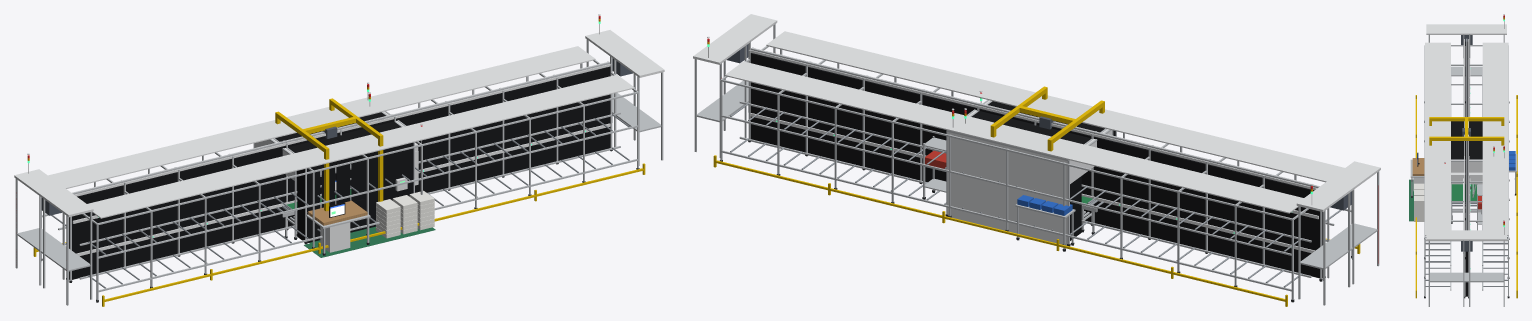
File: lineend-plant.glb
3 renders of one model, left to right at view 1: azimuth 30°, elevation 25°; view 2: azimuth 150°, elevation 25°; view 3: azimuth 270°, elevation 25°, orthographic. The views are drawn at different scales.
Parts seen in each view (by area): view 1: ML.aging.frame, ML.aging.lifts, ML.wb.booth, ML.packer.materials, ML.packer.lift, ML.aging.power, ML.qa.booth, ML.wb.analyser, ML.packer.conveyor; view 2: ML.aging.frame, ML.qa.booth, ML.aging.lifts, ML.wb.booth, ML.packer.lift, ML.aging.power, ML.packer.materials, ML.qa.station; view 3: ML.aging.frame, ML.aging.lifts, ML.packer.materials, ML.wb.booth, ML.packer.lift, ML.qa.booth, ML.fct.conveyor, ML.aging.power, ML.packer.conveyor, ML.qa.station, ML.wb.analyser.
Boxes of the visible parts, <box> form: ML.aging.frame: <box>33,46,645,306</box>; ML.aging.lifts: <box>14,14,664,305</box>; ML.wb.booth: <box>273,82,414,244</box>; ML.packer.materials: <box>307,123,434,238</box>; ML.packer.lift: <box>275,98,383,228</box>; ML.aging.power: <box>72,123,610,255</box>; ML.qa.booth: <box>253,111,435,257</box>; ML.wb.analyser: <box>320,202,350,252</box>; ML.packer.conveyor: <box>276,205,370,255</box>; ML.aging.frame: <box>713,31,1360,306</box>; ML.qa.booth: <box>945,100,1113,246</box>; ML.aging.lifts: <box>693,14,1380,305</box>; ML.wb.booth: <box>951,101,1116,240</box>; ML.packer.lift: <box>990,86,1104,151</box>; ML.aging.power: <box>750,113,1318,253</box>; ML.packer.materials: <box>979,90,1075,251</box>; ML.qa.station: <box>922,136,946,199</box>; ML.aging.frame: <box>1415,38,1517,298</box>; ML.aging.lifts: <box>1426,14,1506,306</box>; ML.packer.materials: <box>1412,151,1517,221</box>; ML.wb.booth: <box>1451,121,1504,217</box>; ML.packer.lift: <box>1429,117,1504,145</box>; ML.qa.booth: <box>1409,160,1482,221</box>; ML.fct.conveyor: <box>1451,184,1476,216</box>; ML.aging.power: <box>1463,58,1470,272</box>; ML.packer.conveyor: <box>1410,159,1481,223</box>; ML.qa.station: <box>1476,184,1482,230</box>; ML.wb.analyser: <box>1413,152,1424,191</box>.
Bounding box in the file's own units: 17.64 × 3.19 × 3.77.
